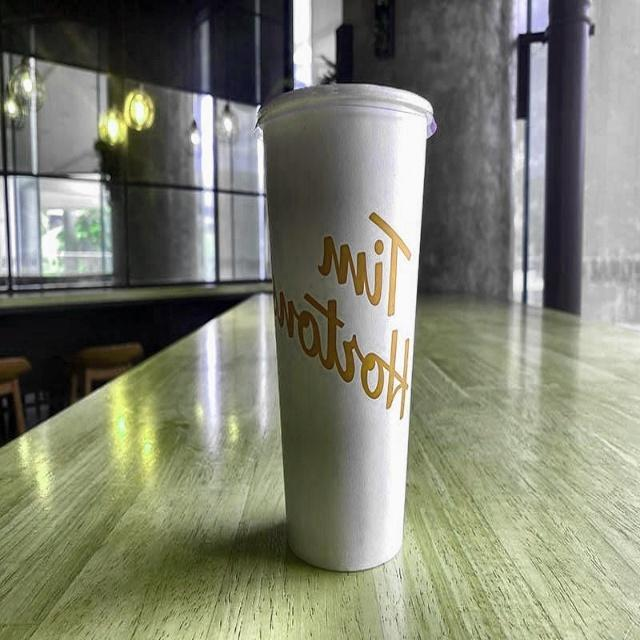timmies: (252, 77, 439, 575)
